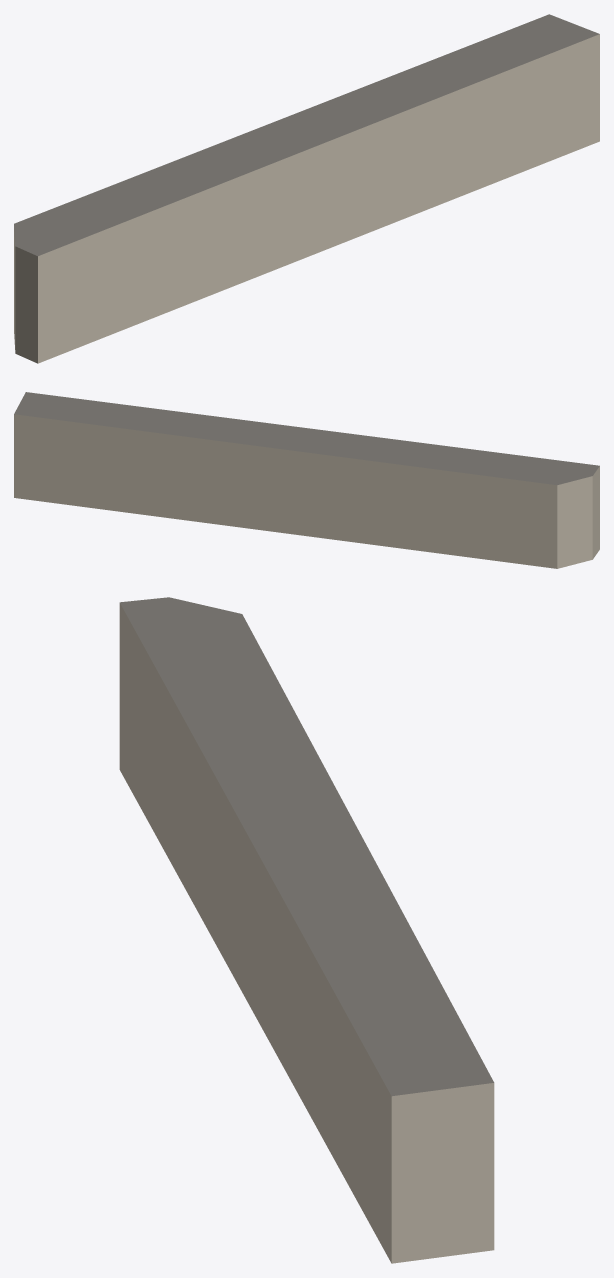
3 renders of one model, top to bottom at view 1: azimuth 30°, elevation 25°; view 2: azimuth 150°, elevation 25°; view 3: azimuth 270°, elevation 25°, orthographic. The views are drawn at different scales.
Visible parts, largest first — view 1: HP-w757510117; view 2: HP-w757510117; view 3: HP-w757510117.
Boxes of the visible parts, left/top/right/bottom form: HP-w757510117: left=14, top=14, right=599, bottom=363; HP-w757510117: left=14, top=392, right=599, bottom=568; HP-w757510117: left=119, top=597, right=494, bottom=1263.
Size of the model in its own units: 115 by 18 by 36.51.
